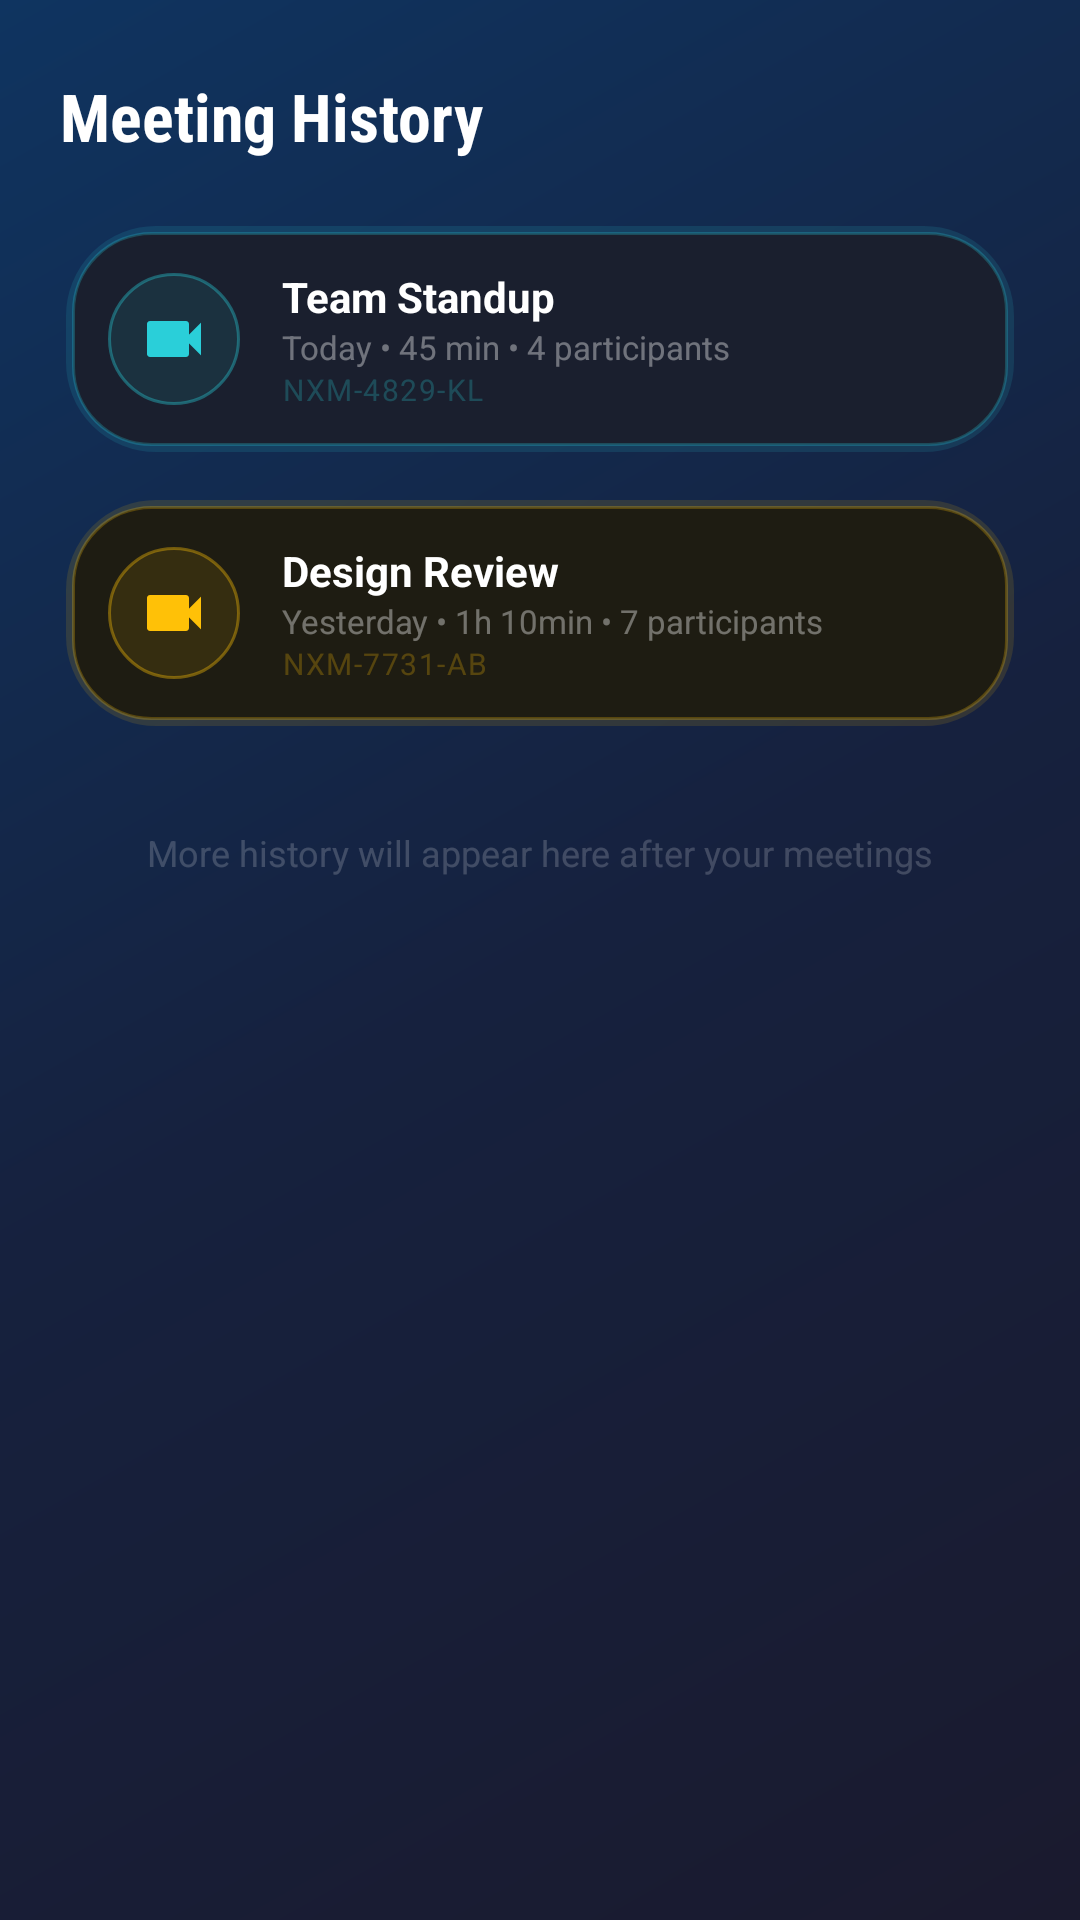

Icons on this 1080*1920 Android screen, each with its box as [x1, y1, x2, y2]:
video call: [147, 321, 201, 357], [147, 595, 201, 631]
